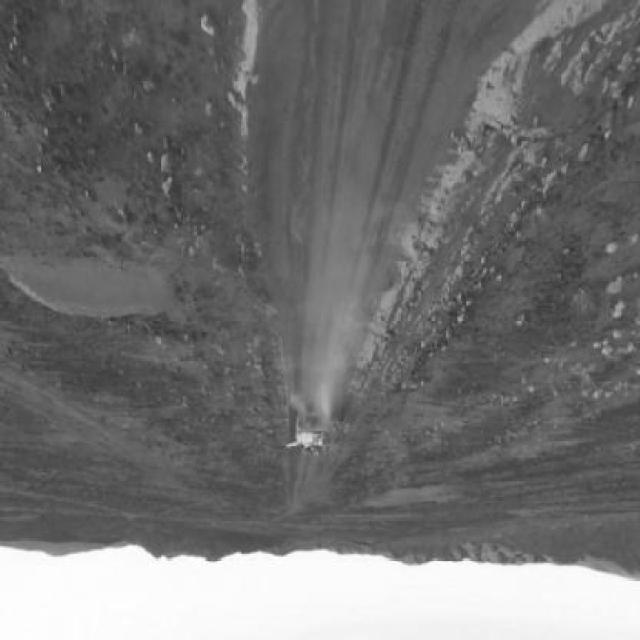Vehicle: (290, 413, 343, 459)
